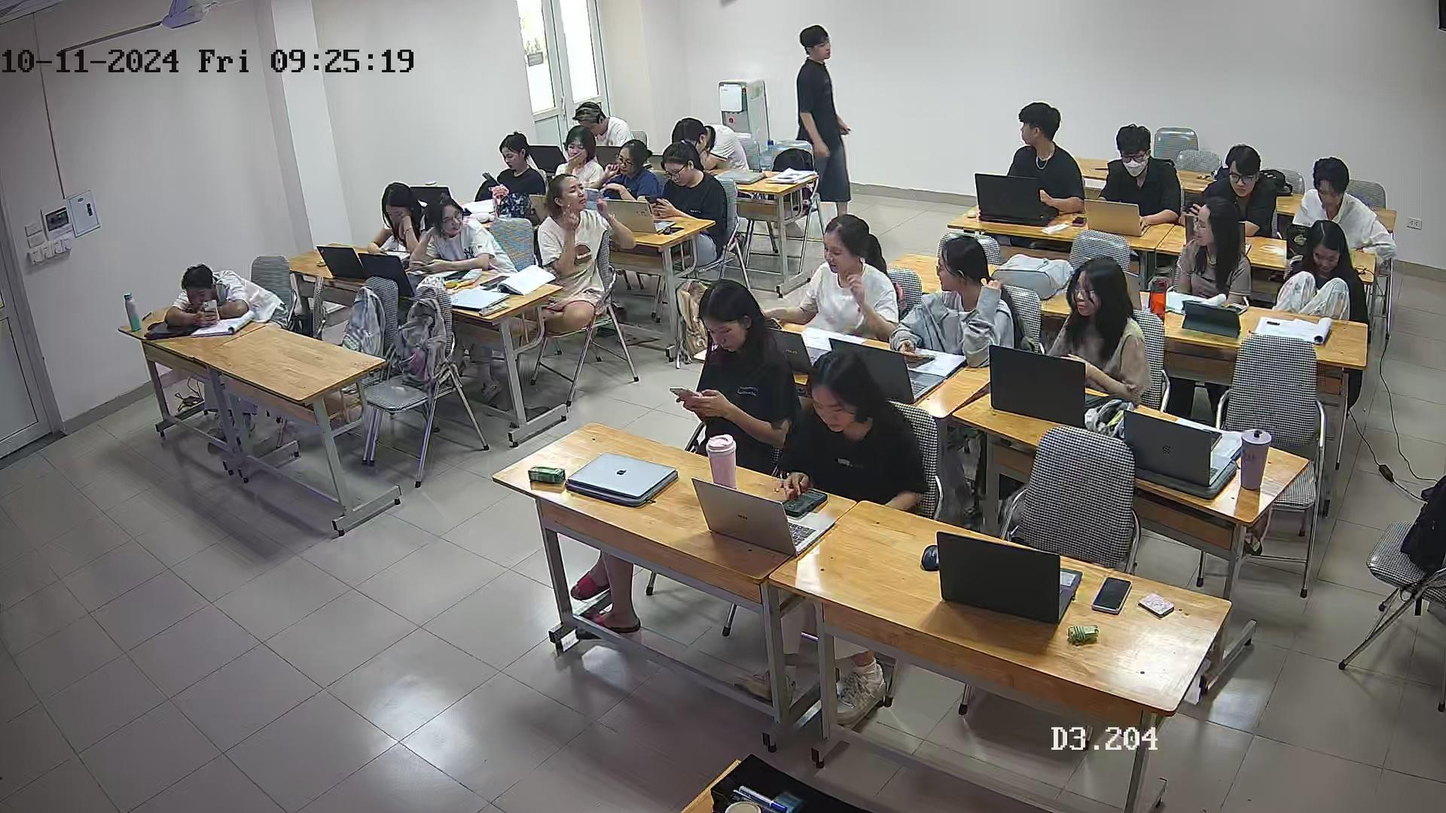Bend Over The Desk: (157, 257, 265, 335)
Look Around: (994, 89, 1075, 206), (538, 172, 607, 277), (1178, 184, 1238, 303), (930, 236, 996, 297), (426, 197, 473, 247)
Stand Up: (788, 14, 856, 214)
phone: (649, 366, 718, 428), (479, 168, 511, 201), (646, 194, 670, 217), (200, 299, 220, 323)
